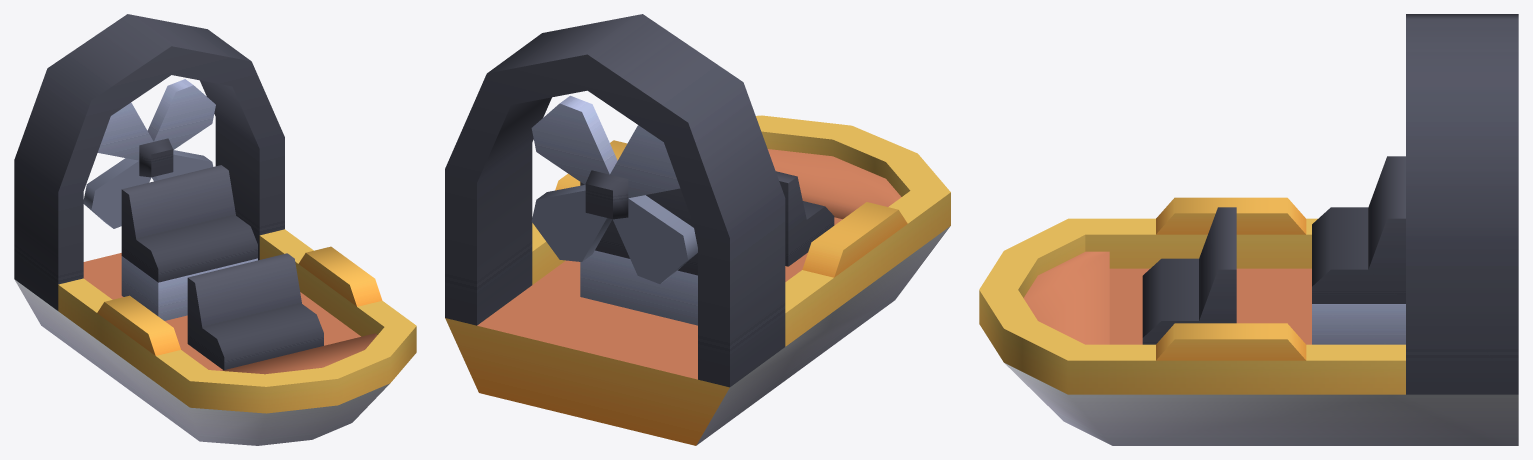
File: boat-fan.glb
3 renders of one model, left to right at view 1: azimuth 30°, elevation 25°; view 2: azimuth 150°, elevation 25°; view 3: azimuth 270°, elevation 25°, orthographic. The views are drawn at different scales.
Visible parts, largest first — view 1: boat-fan, fan; view 2: boat-fan, fan; view 3: boat-fan.
Part boxes in pixels (x1,y1,x2,y2): boat-fan: (14, 14, 416, 445); fan: (83, 79, 215, 228); boat-fan: (445, 14, 950, 445); fan: (531, 95, 697, 283); boat-fan: (979, 14, 1518, 445).
Bounding box in the file's own units: 1.78 × 2.19 × 2.87.
Materials: 1 (1 with a texture image).
